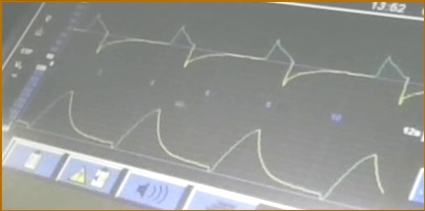Flow: (73, 11, 422, 105)
Leakage Volume: (17, 89, 384, 203)
